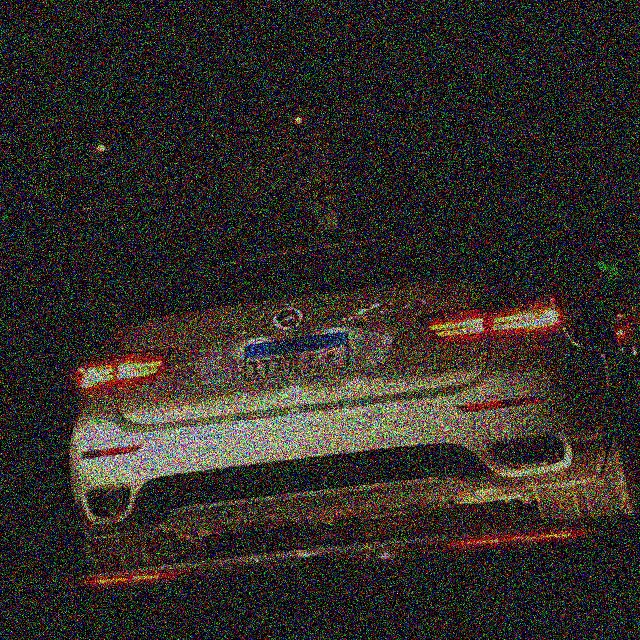License Plate: (237, 328, 354, 386)
